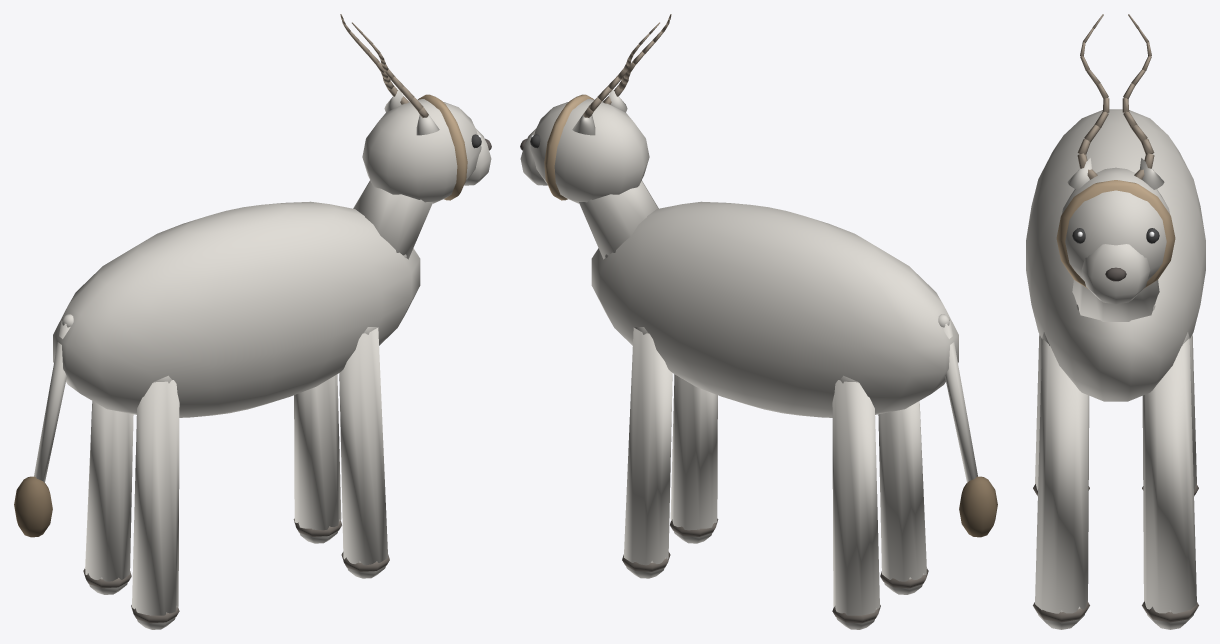
The model's file is addax.glb.
The picture shows the model from 3 angles, left to right: view 1: azimuth 30°, elevation 25°; view 2: azimuth 150°, elevation 25°; view 3: azimuth 270°, elevation 25°; orthographic projection. The views are drawn at different scales.
Visible parts, largest first — view 1: e, cone, e.023; view 2: e, cone, e.023; view 3: e, cone.
Part boxes in pixels (<box>): e: <box>53,180,432,629</box>; cone: <box>340,14,491,203</box>; e.023: <box>14,314,73,537</box>; e: <box>579,180,958,629</box>; cone: <box>520,14,671,203</box>; e.023: <box>938,314,997,537</box>; e: <box>1026,109,1205,629</box>; cone: <box>1056,14,1175,303</box>.
Size of the model in its own units: 1.31 by 1.42 by 0.3761.
